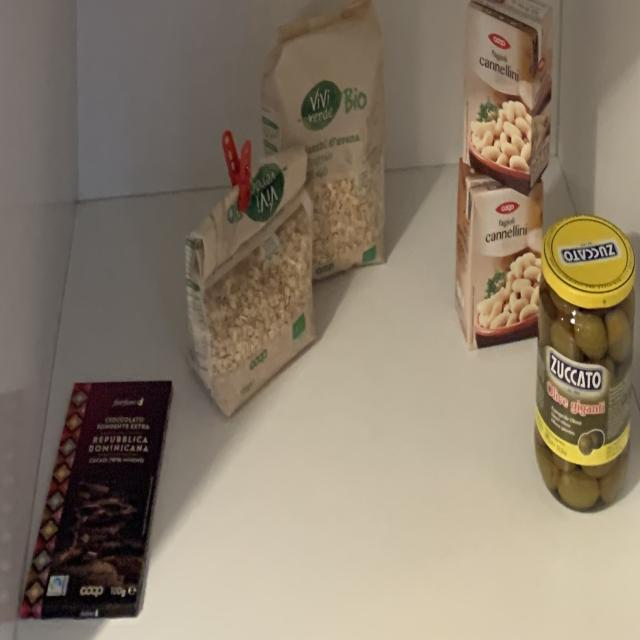beans: (462, 0, 553, 193), (458, 169, 542, 345)
chocolate: (23, 381, 172, 622)
oats: (263, 6, 385, 290), (188, 159, 312, 413)
olives: (539, 284, 633, 514)
